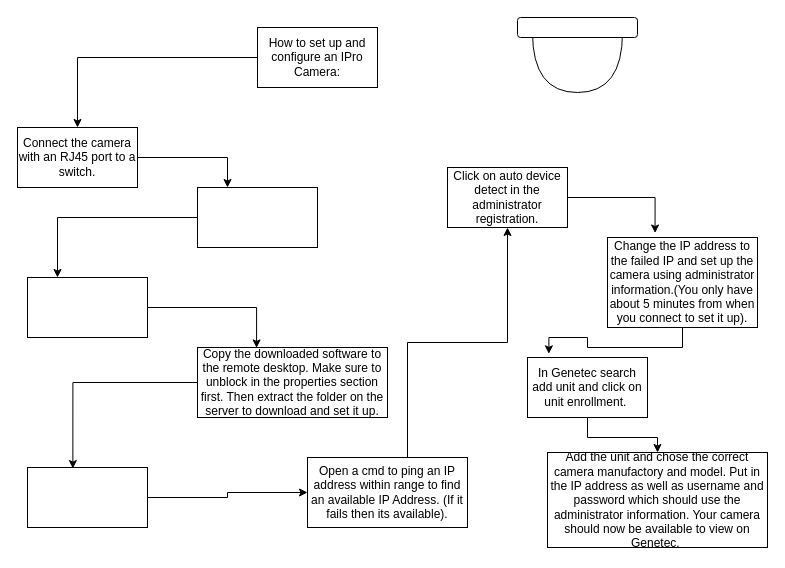
Image size: 785x568. Some labels were removed from this diagram. Each missing label, with the centre of its shape:
IPro: [577,27]
Login using the administrator login.: [87,497]
Open a remote desktop using an approved IP server.: [87,307]
Search and download the camera models software.: [257,217]
